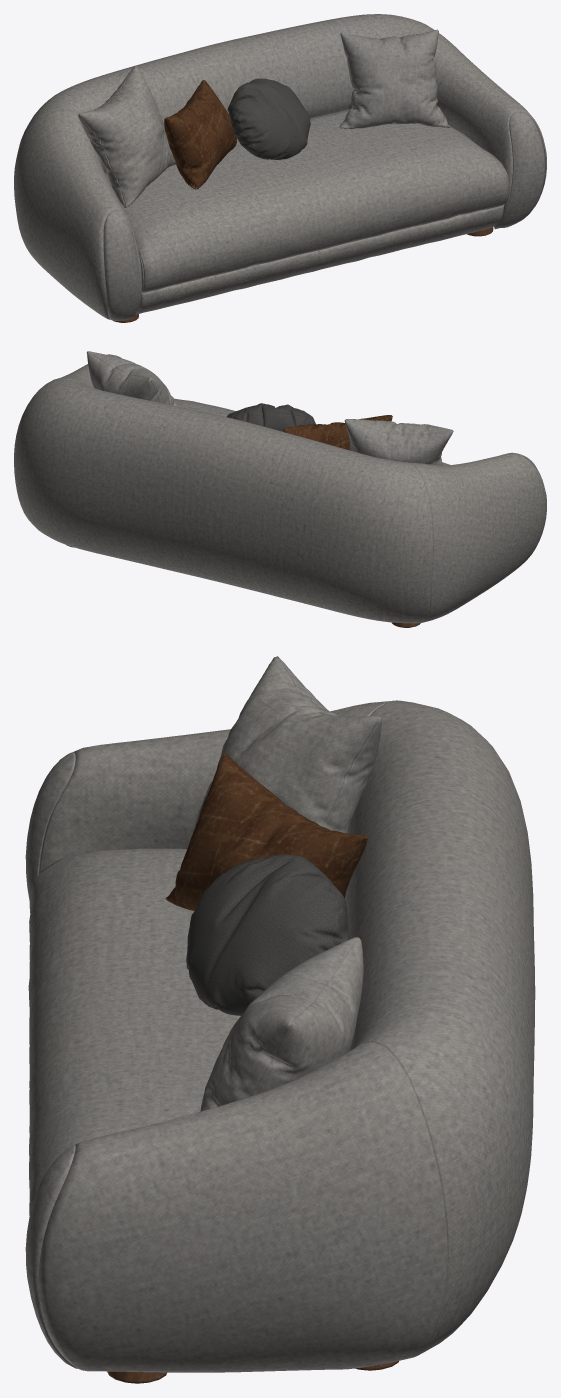
Rendered from sofaaa.fbx.
3 views of the same model, one above another, from view 1: azimuth 30°, elevation 25°; view 2: azimuth 150°, elevation 25°; view 3: azimuth 270°, elevation 25° (orthographic). The views are drawn at different scales.
Visible parts, largest first — view 1: Sofa_Seat, Pillow_02, Pillow_01; view 2: Sofa_Seat, Pillow_02, Pillow_01; view 3: Sofa_Seat, Pillow_02, Pillow_01.
Boxes of the visible parts, x1,y1,x2,y2 form: Sofa_Seat: [14, 14, 546, 320]; Pillow_02: [227, 78, 310, 159]; Pillow_01: [164, 80, 236, 189]; Sofa_Seat: [14, 351, 546, 623]; Pillow_02: [227, 403, 315, 431]; Pillow_01: [283, 415, 392, 450]; Sofa_Seat: [25, 656, 535, 1372]; Pillow_02: [186, 854, 349, 1015]; Pillow_01: [165, 753, 368, 911].
Bounding box in the file's own units: 203 × 81.85 × 99.1.
